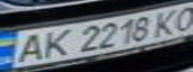1: (115, 16, 139, 45)
2: (75, 21, 103, 54), (96, 19, 124, 51)
8: (130, 12, 157, 43)
A: (9, 30, 51, 64)
K: (36, 26, 78, 61), (148, 7, 187, 37)
O: (166, 2, 193, 32)
